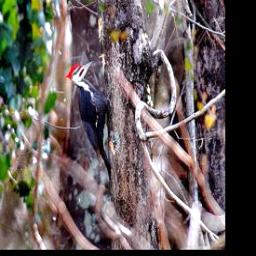Woodpecker: (62, 59, 113, 183)
